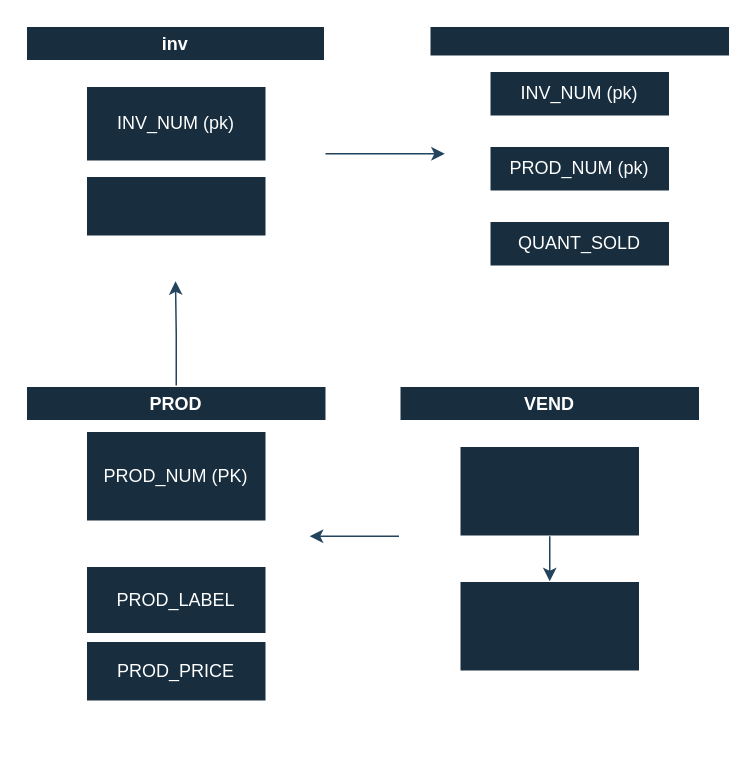
Some shapes in this 756 by 758 pixel diagram are drawn without their labels. Each missing label, with the box of its shape:
LINE: (428, 25, 730, 311)
SALE_DATE: (85, 175, 266, 236)
VEND_CODE (pk): (458, 445, 640, 536)
VEND_NAME: (458, 580, 640, 671)
